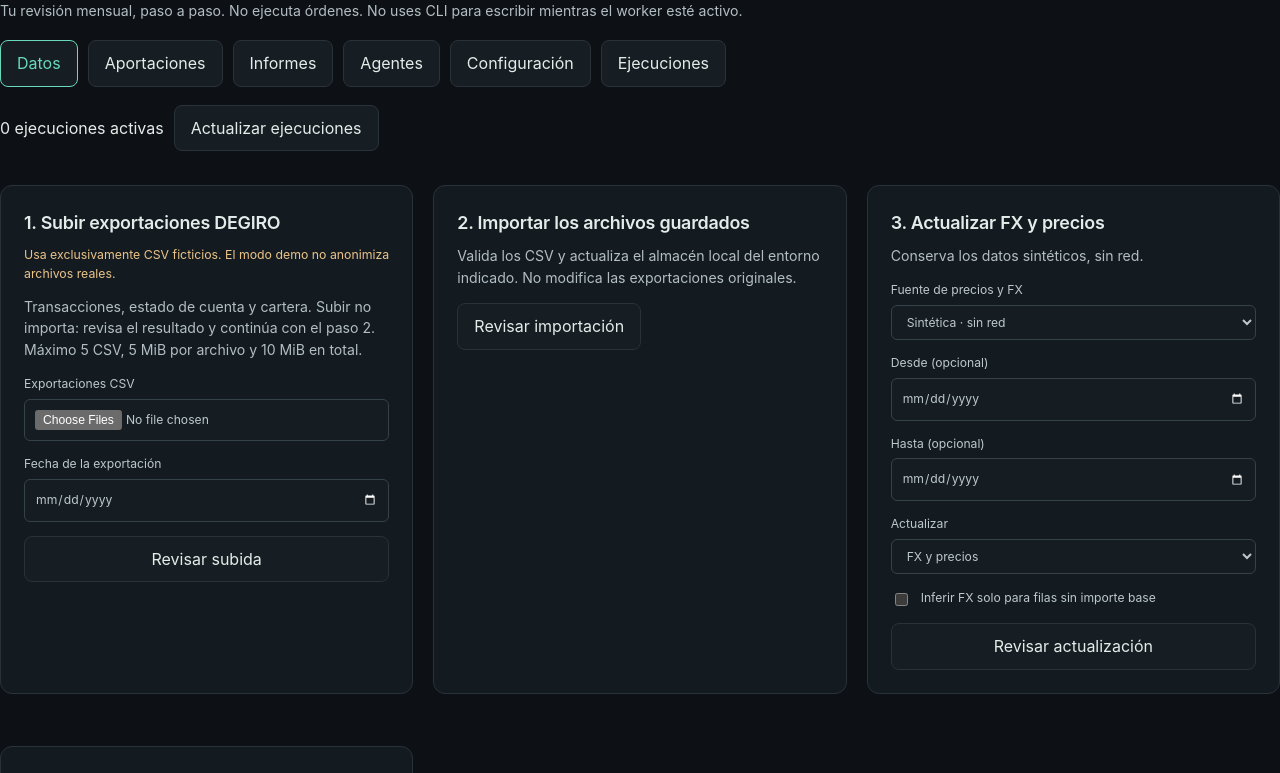
operational safety › serializes configuration reads to avoid competing for the server lock
The image size is (1280, 773).
Step 1. Click the button "Configuración" → (520, 63), box [450,40,591,87]
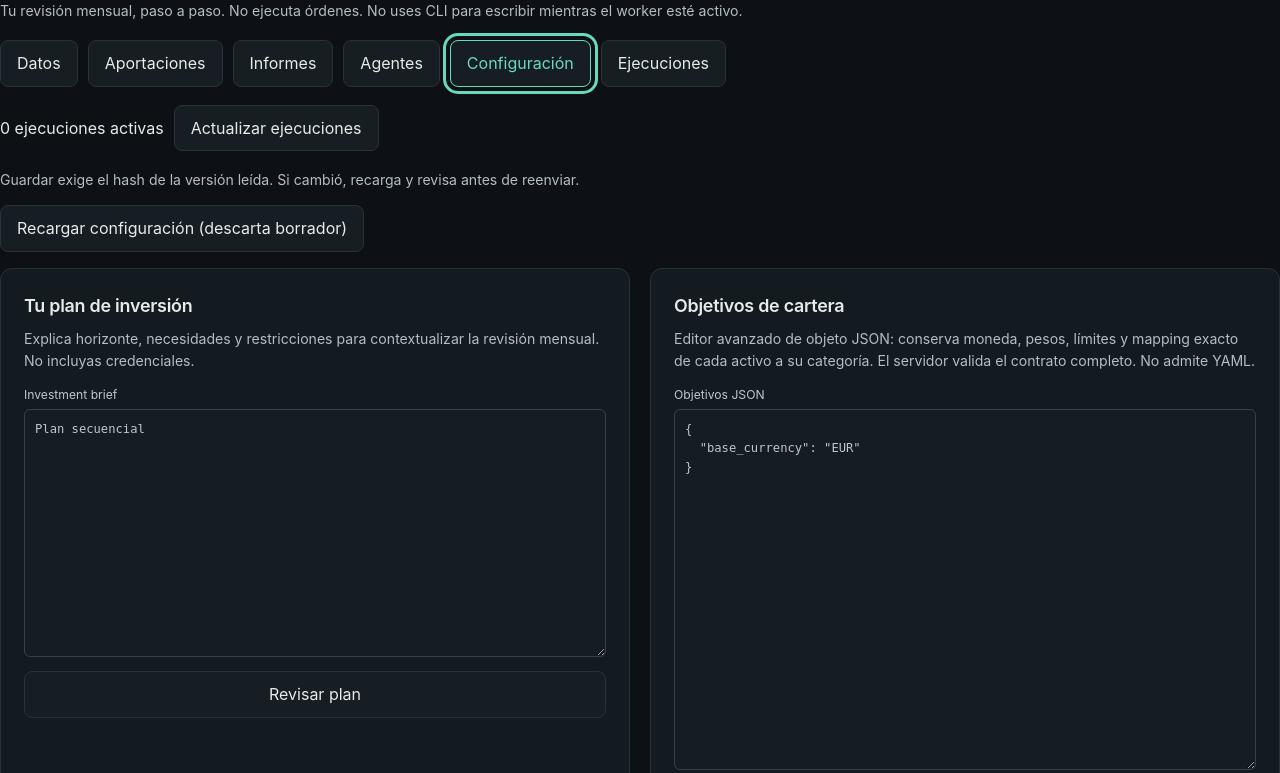
Result: the text box showing "Plan secuencial" is shown at [24,409,606,657]
